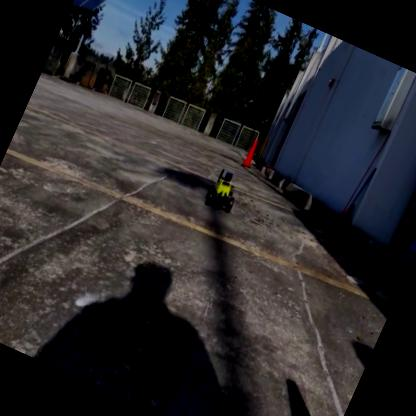cone: (240, 136, 260, 170)
mushr_car: (199, 158, 250, 218)
